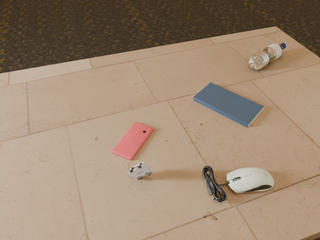book: (193, 82, 264, 127)
bottle: (249, 43, 286, 70)
mouse: (225, 167, 274, 193)
phone: (112, 122, 153, 160)
toy_car: (128, 162, 153, 179)
